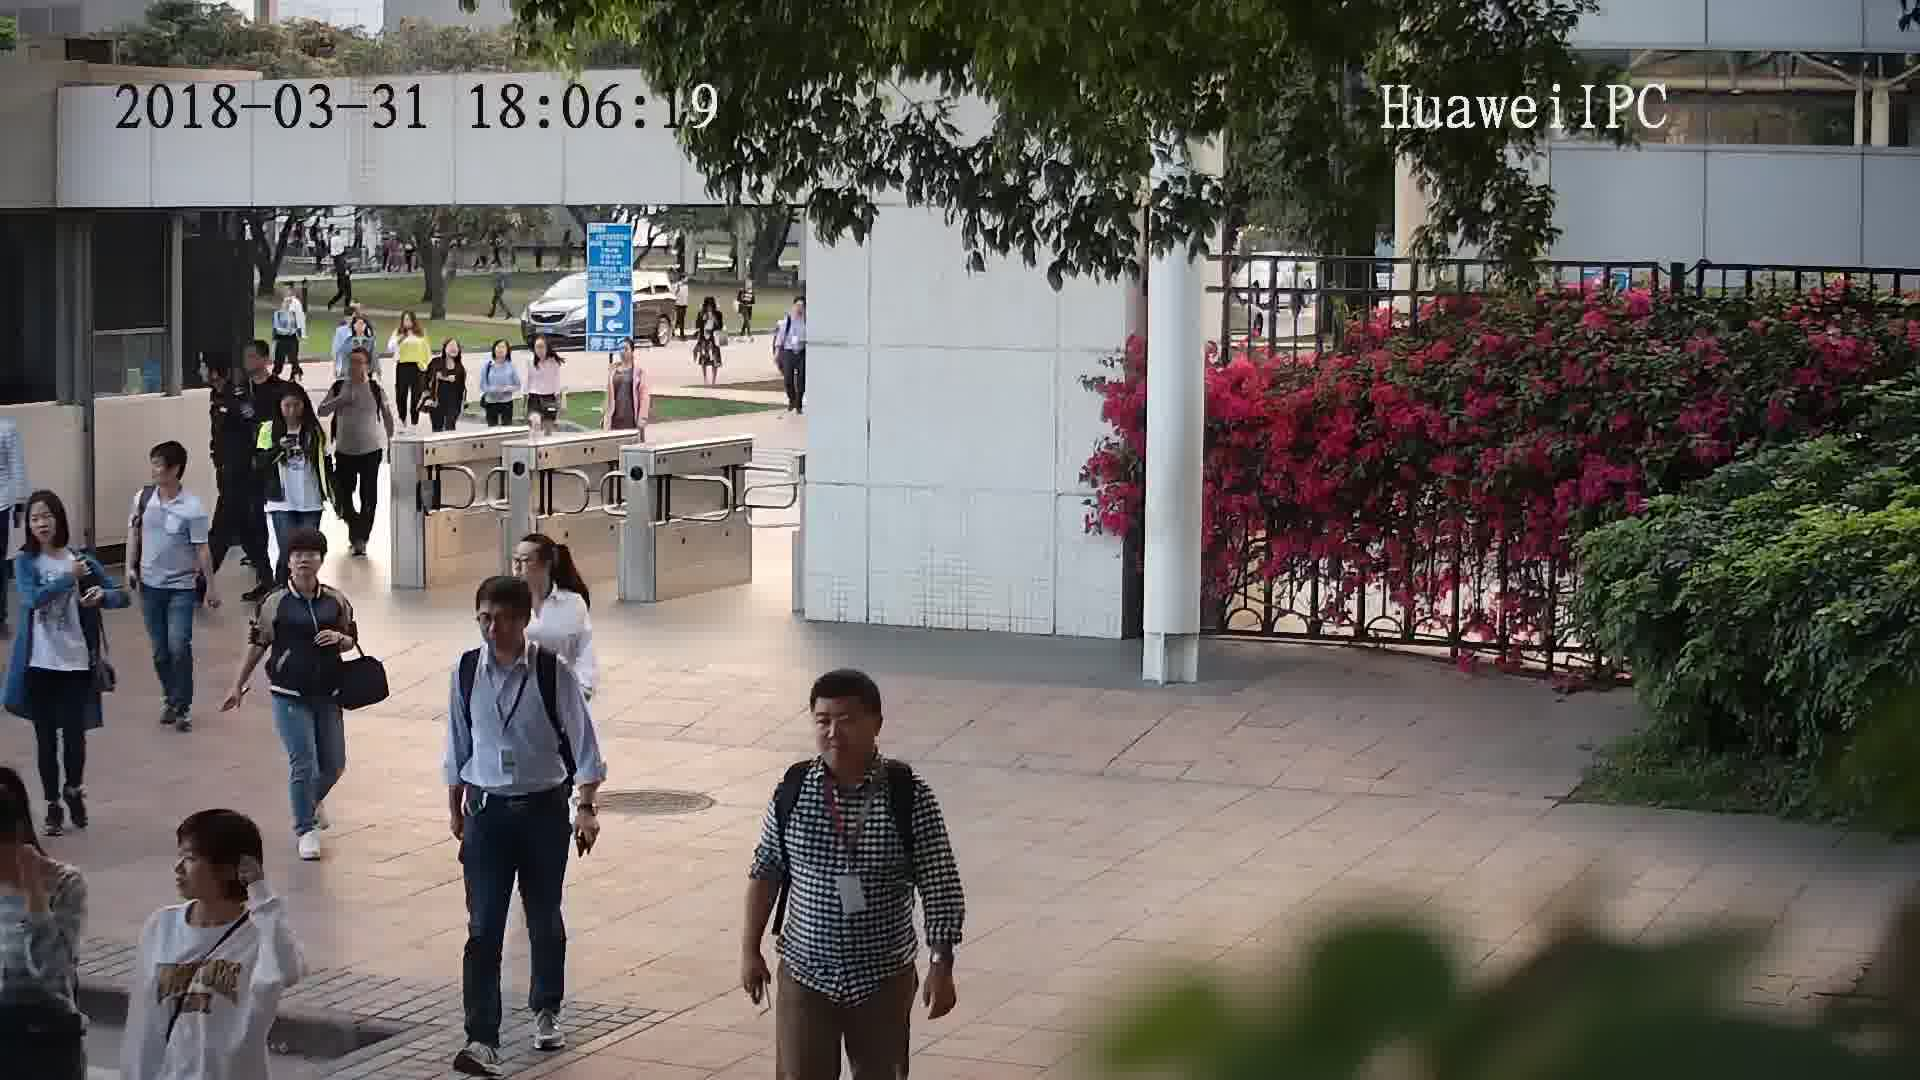face: (806, 694, 880, 768), (163, 829, 232, 899), (471, 590, 530, 649), (23, 495, 61, 545), (282, 544, 327, 583)
person: (773, 664, 935, 816), (143, 808, 288, 951), (449, 573, 572, 692), (1, 773, 94, 915), (262, 525, 352, 618), (11, 486, 95, 582), (514, 525, 589, 627), (136, 438, 208, 514), (267, 381, 325, 440), (332, 344, 389, 396), (239, 336, 286, 397), (203, 351, 249, 413), (611, 332, 650, 385), (338, 306, 381, 349), (427, 335, 472, 376), (487, 337, 520, 374), (527, 333, 563, 366), (397, 308, 429, 344), (274, 276, 305, 312), (693, 292, 729, 320), (781, 295, 809, 330), (670, 269, 692, 290), (738, 275, 756, 296)
